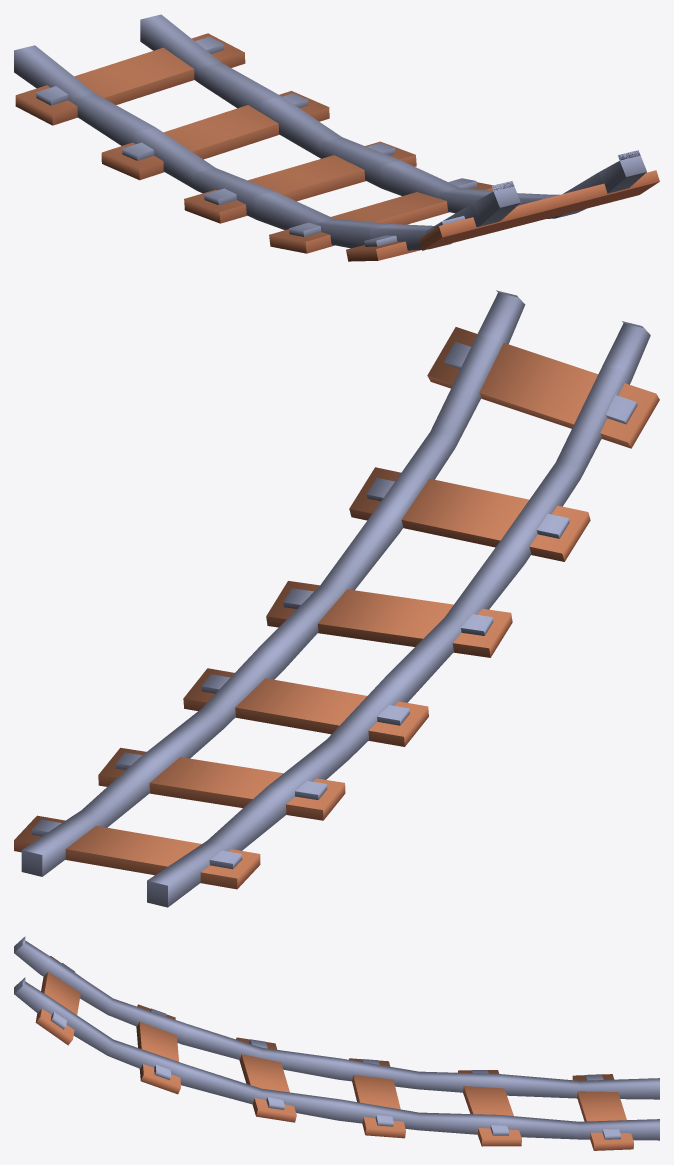
The model's file is railroad-damaged-straight-hill-beginning.glb.
3 views of the same model, one above another, from view 1: azimuth 30°, elevation 25°; view 2: azimuth 150°, elevation 25°; view 3: azimuth 270°, elevation 25° (orthographic). The views are drawn at different scales.
Parts seen in each view (by area): view 1: railroad-damaged-straight-hill-beginning; view 2: railroad-damaged-straight-hill-beginning; view 3: railroad-damaged-straight-hill-beginning.
Boxes of the visible parts, x1,y1,x2,y2 form: railroad-damaged-straight-hill-beginning: [14, 14, 659, 261]; railroad-damaged-straight-hill-beginning: [14, 290, 659, 907]; railroad-damaged-straight-hill-beginning: [14, 936, 659, 1150].
Bounding box in the file's own units: 1.03 × 1.07 × 4.
